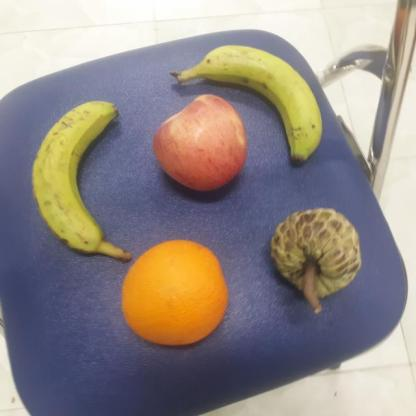annona: (266, 204, 365, 302)
apple: (148, 92, 252, 198)
banana: (176, 38, 326, 164), (24, 93, 122, 260)
orange: (121, 235, 228, 351)
